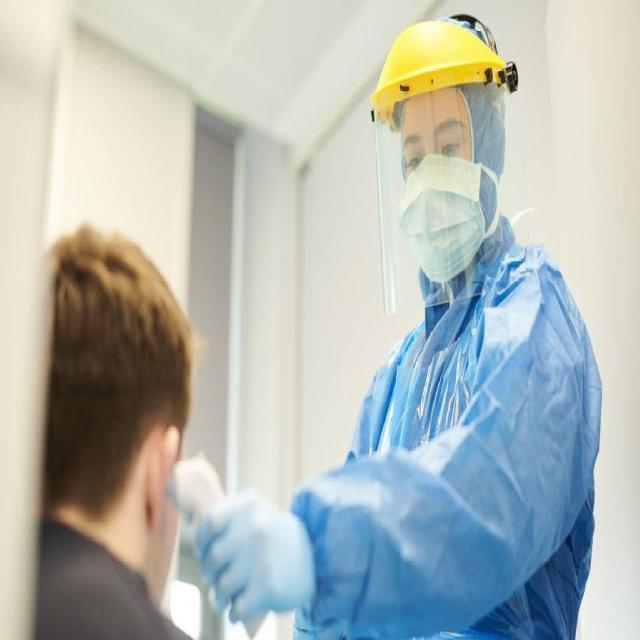gloves: (188, 498, 316, 624)
